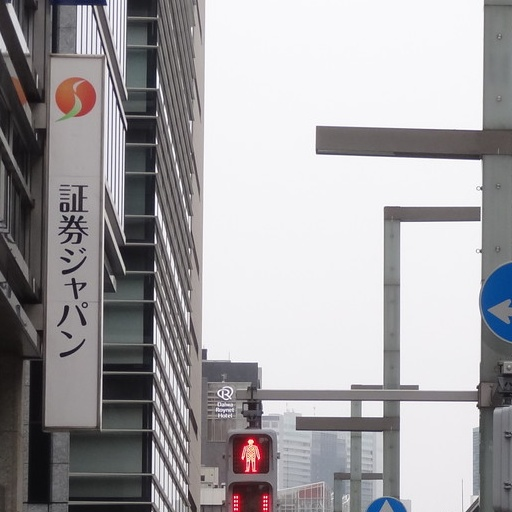Pedestrian_Signal_Red: (227, 422, 282, 507)
